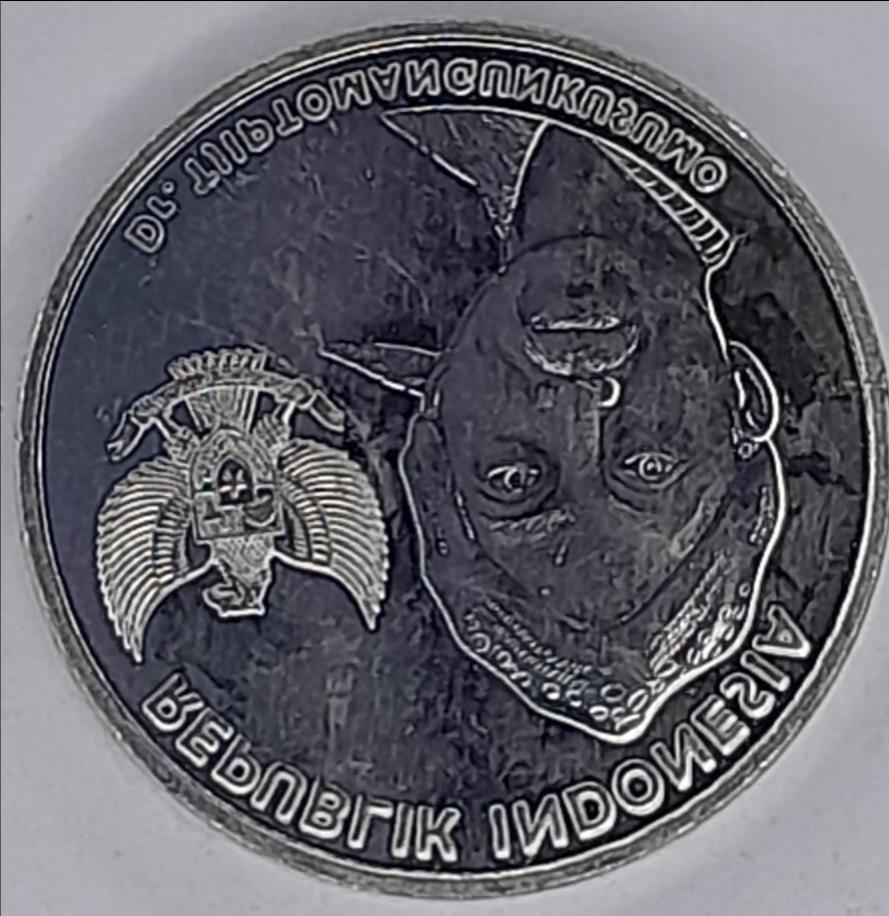coin_200_e2016: (0, 16, 889, 916)
